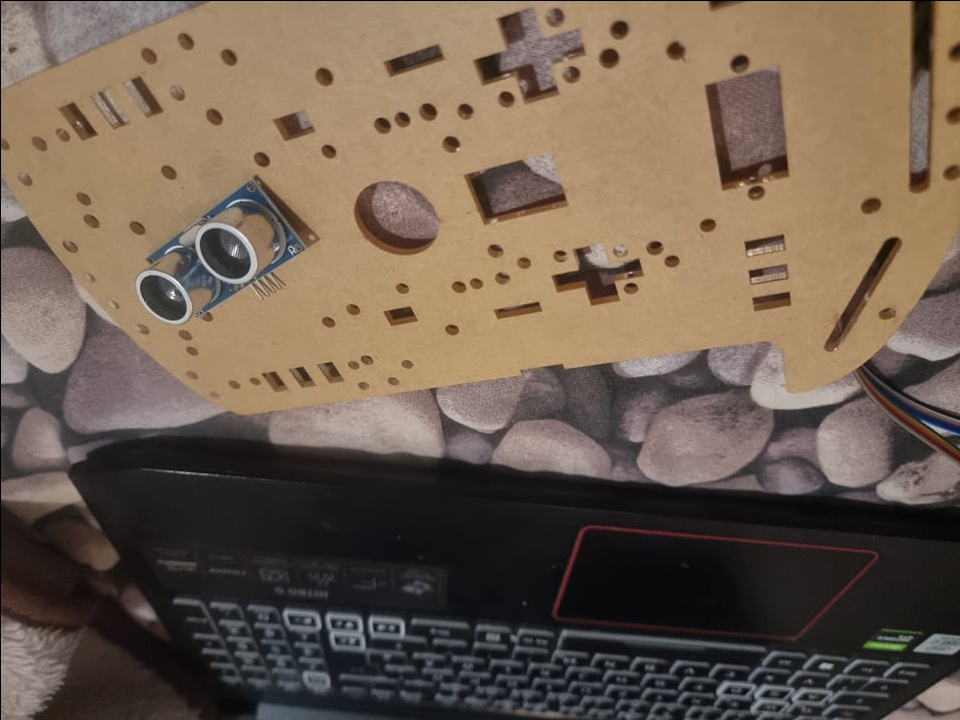SENSOR: (139, 175, 307, 324)
